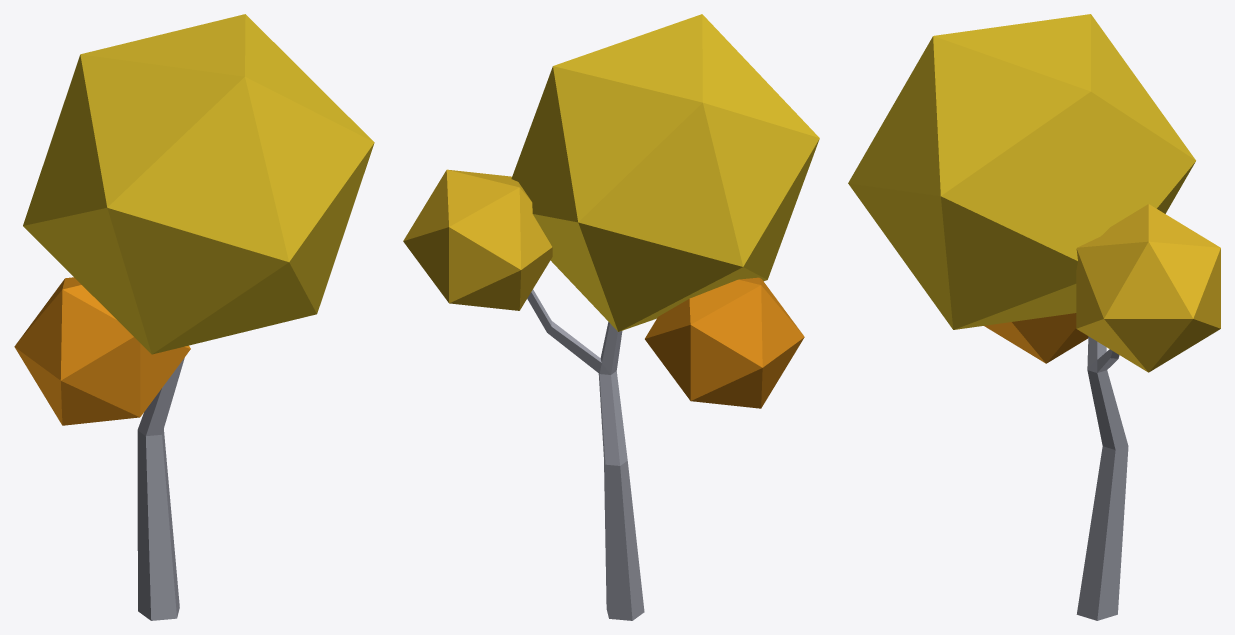
Rendered from tree04.dae.
3 views of the same model, side by side, from view 1: azimuth 30°, elevation 25°; view 2: azimuth 150°, elevation 25°; view 3: azimuth 270°, elevation 25° (orthographic). The views are drawn at different scales.
Parts seen in each view (by area): view 1: leaves (×2), bark; view 2: leaves (×3), bark; view 3: leaves (×3), bark.
Part boxes in pixels (bbox=[...]): leaves (×2): bbox=[14, 14, 374, 425]; bark: bbox=[137, 357, 184, 620]; leaves (×3): bbox=[403, 14, 819, 408]; bark: bbox=[527, 289, 644, 620]; leaves (×3): bbox=[848, 14, 1220, 372]; bark: bbox=[1076, 336, 1128, 620].
Bounding box in the file's own units: 548 × 913 × 536.
Materials: 1 (1 with a texture image).
